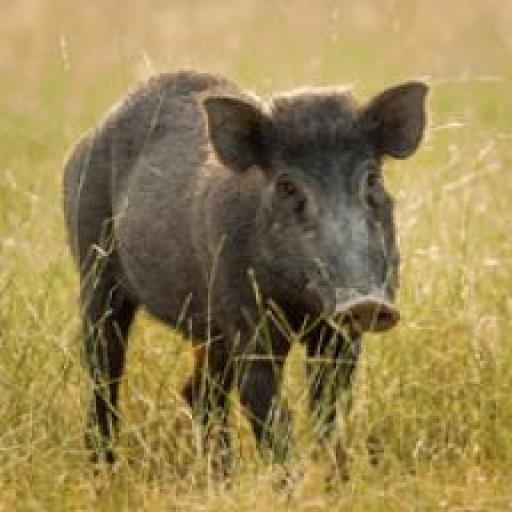Pig: (68, 60, 444, 482)
